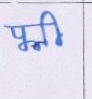i_matra: (44, 11, 64, 46)
